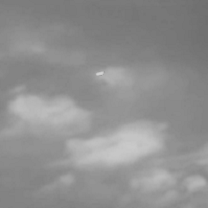Target: (94, 70, 106, 77)
